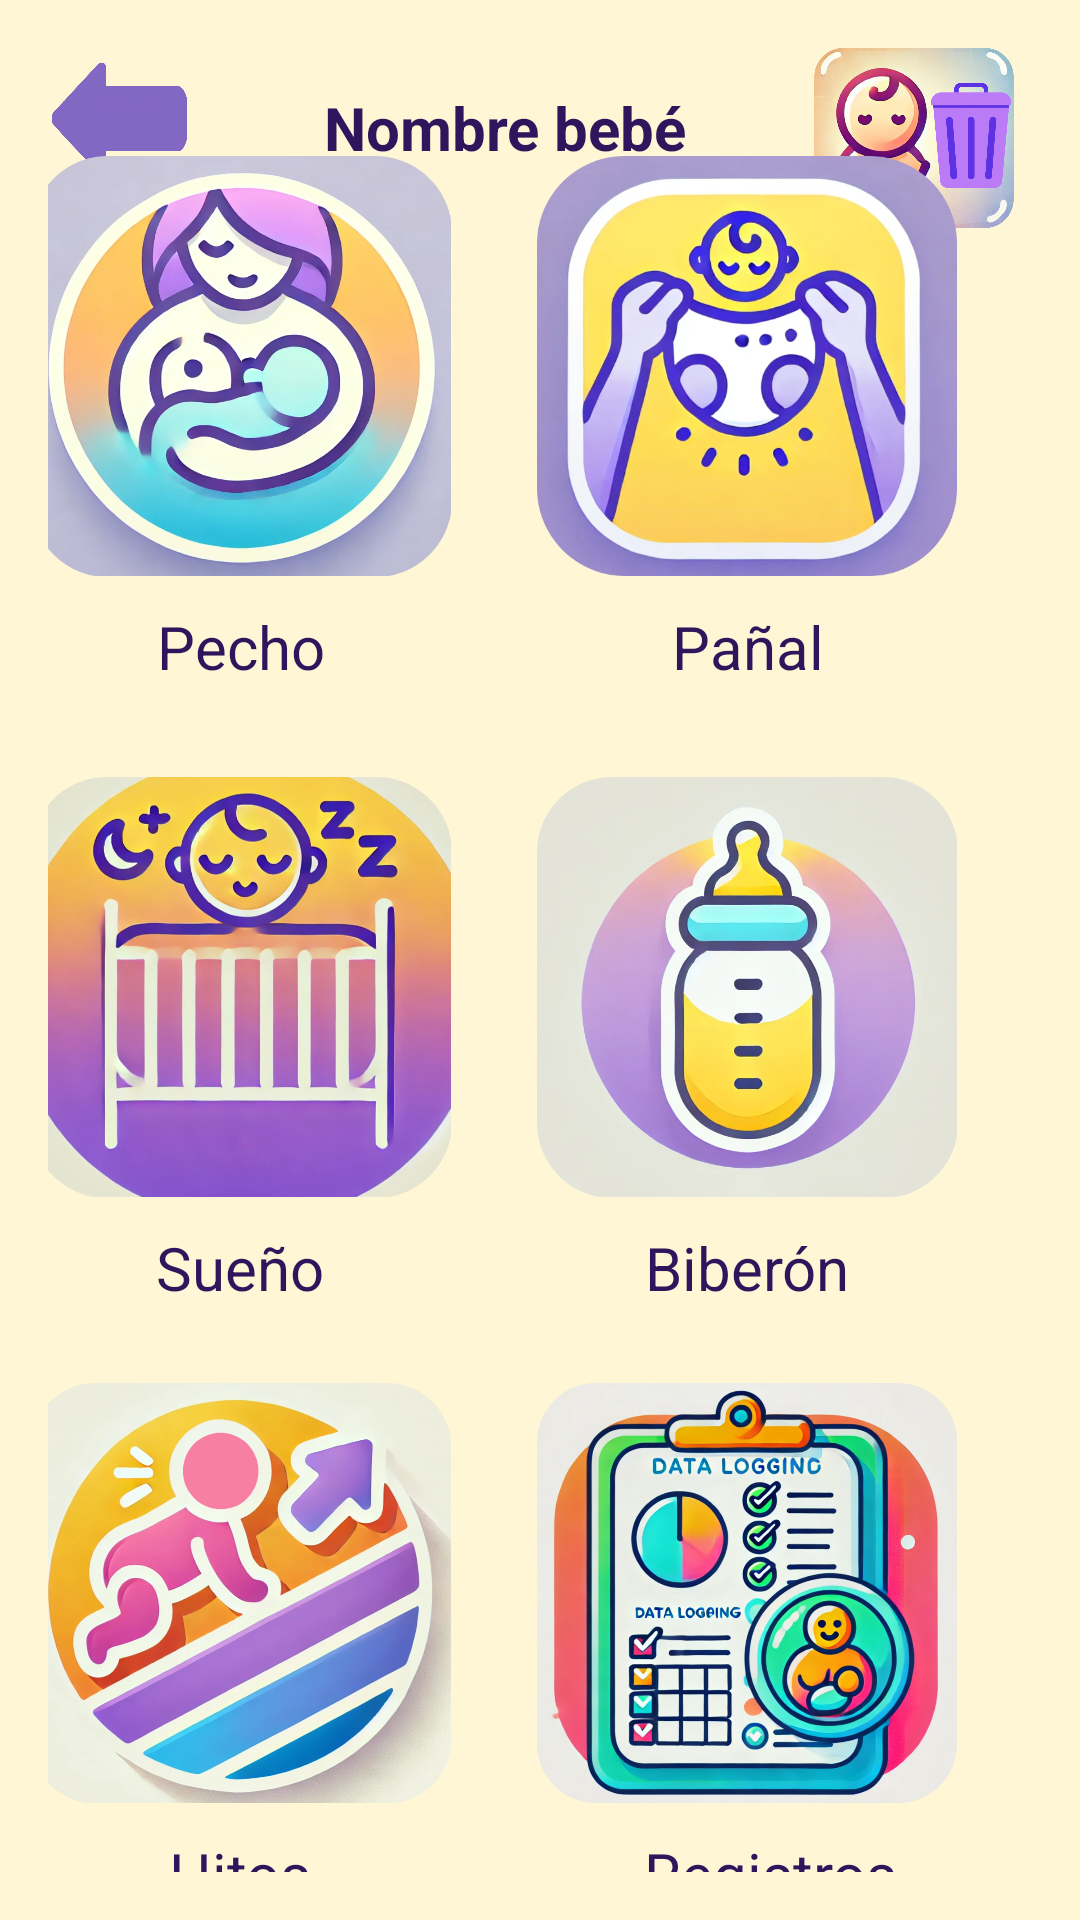

Screen size 1080*1920. Icon name, then its box in pixels as {"left": x1, "top": y1, "right": x2, "bottom": y2}:
Botón atrás: {"left": 48, "top": 63, "right": 192, "bottom": 192}
Botón borrar bebé: {"left": 809, "top": 48, "right": 1014, "bottom": 228}
